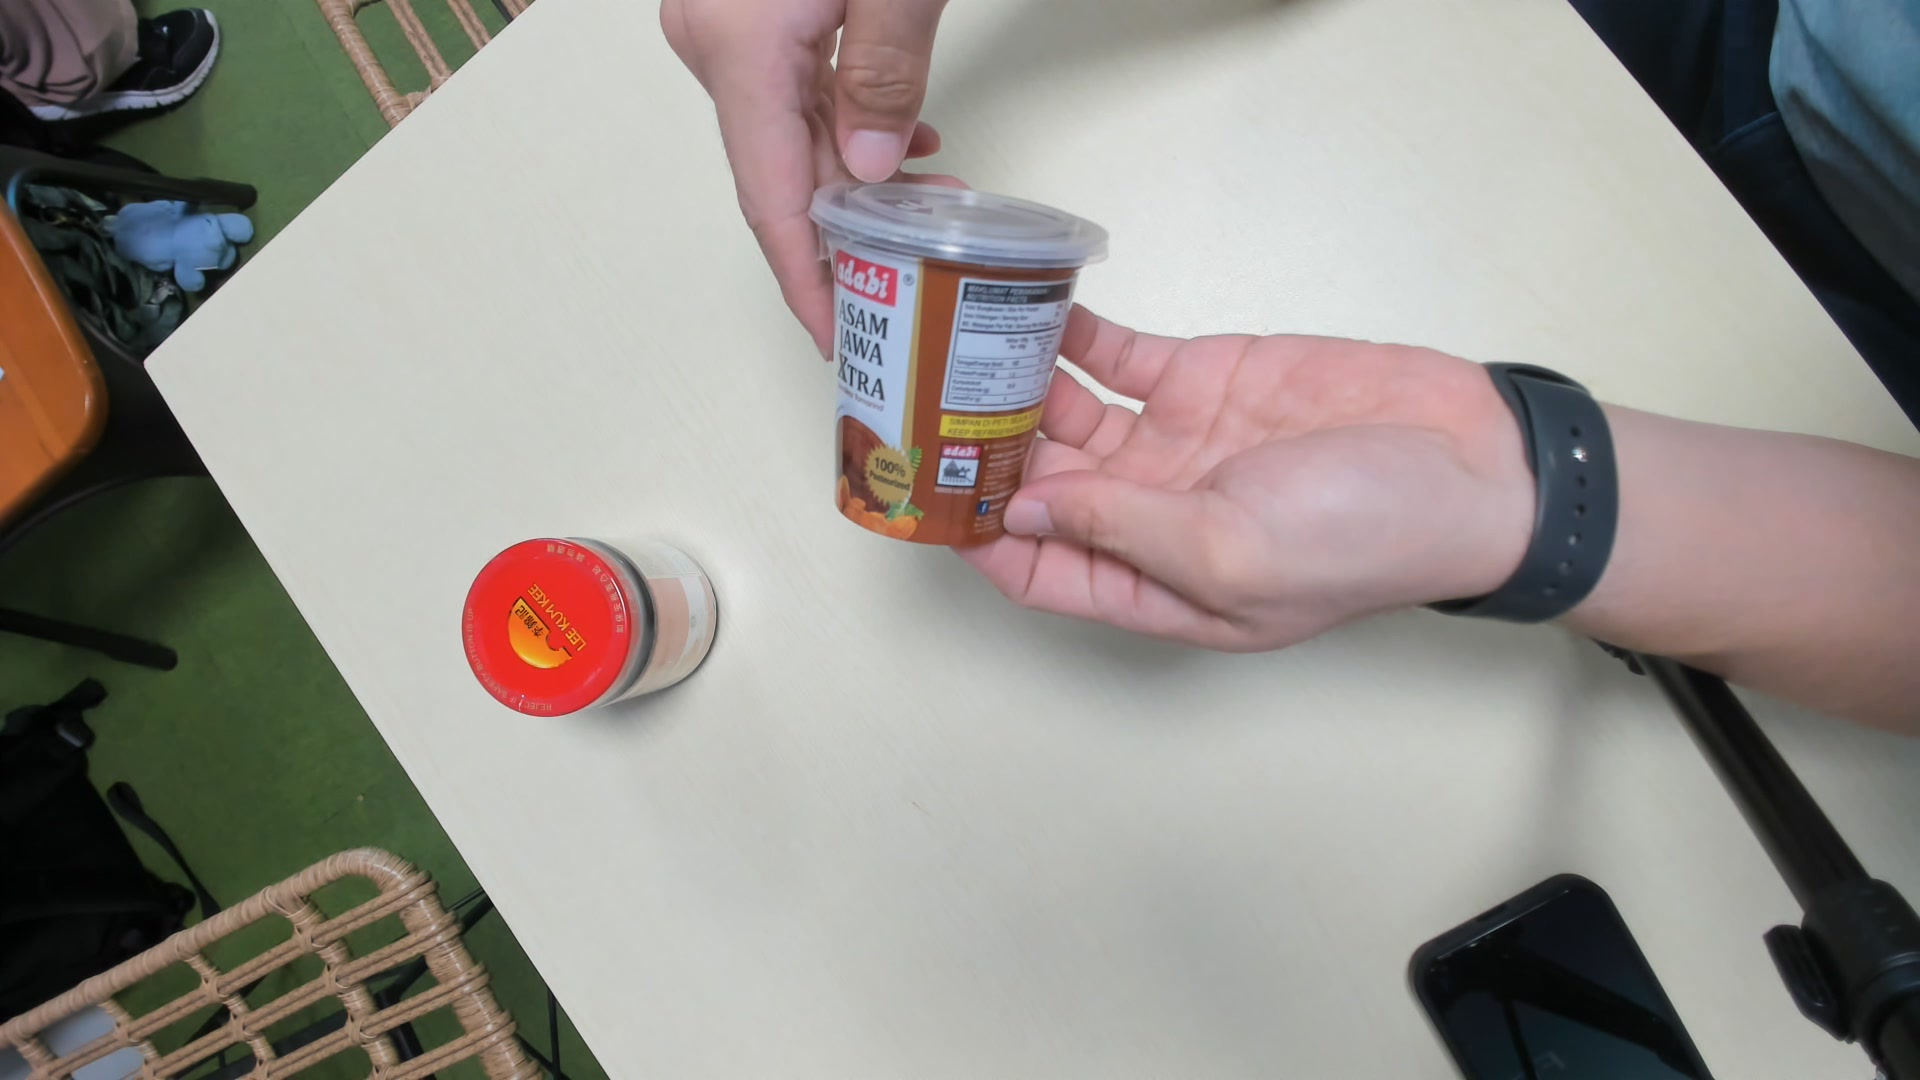OtherSauceDressing_200-299g_Halal_NonHealthy: (814, 165, 1104, 553)
